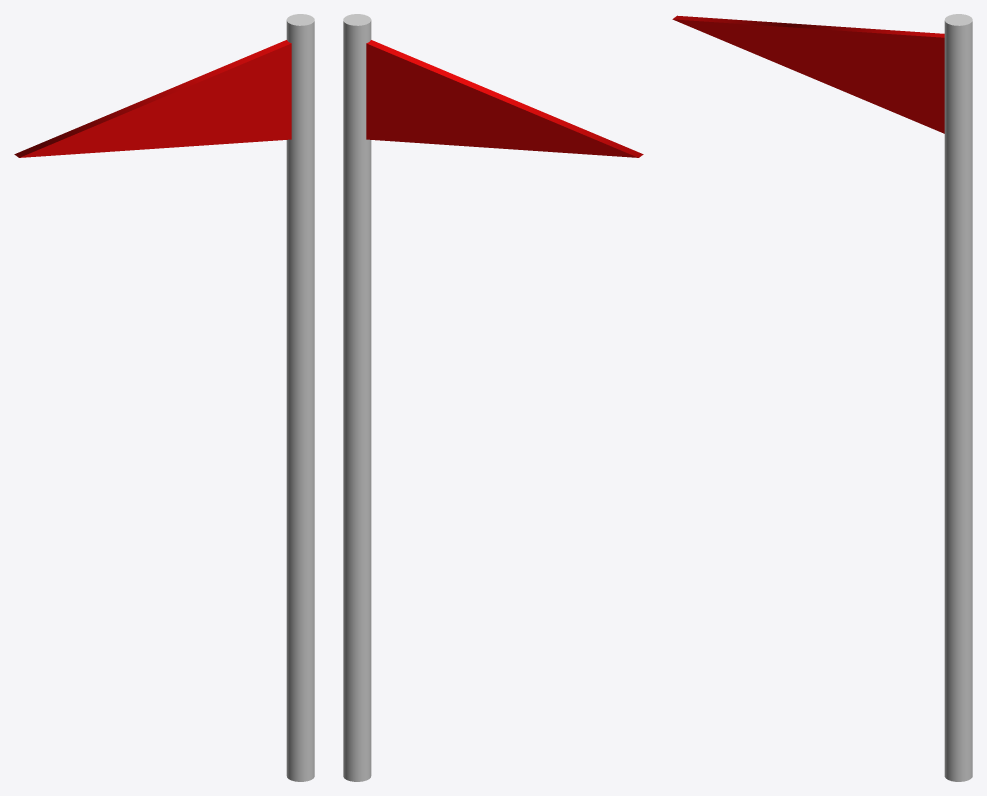
The model's file is Flag.fbx.
3 views of the same model, side by side, from view 1: azimuth 30°, elevation 25°; view 2: azimuth 150°, elevation 25°; view 3: azimuth 330°, elevation 25° (orthographic).
Visible parts, largest first — view 1: pCube12; view 2: pCube12; view 3: pCube12.
Part boxes in pixels (box(x1,y1,x2,y2)): pCube12: box(14, 14, 314, 781); pCube12: box(343, 14, 643, 781); pCube12: box(672, 14, 972, 781).
Bounding box in the file's own units: 10.83 × 26.41 × 0.8935.
